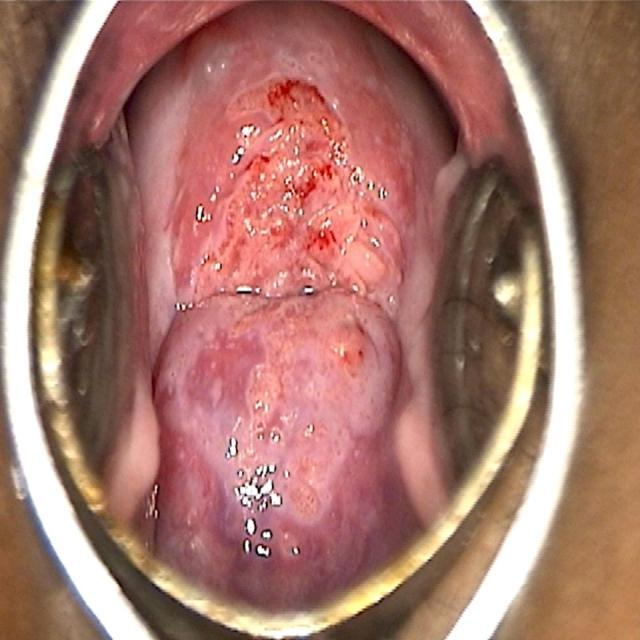cervical_lesion: (151, 48, 411, 601)
